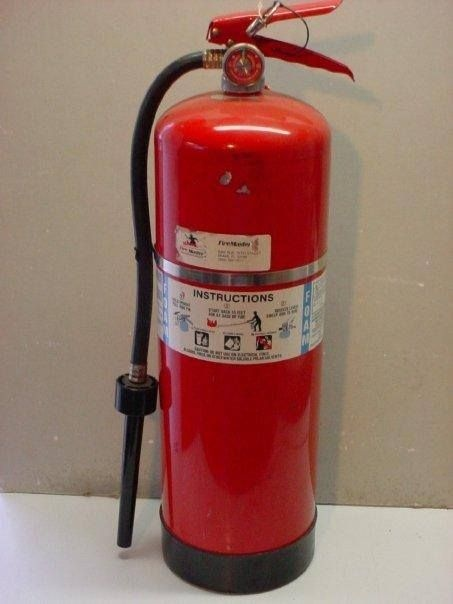fire_extinguisher: (115, 0, 355, 595)
